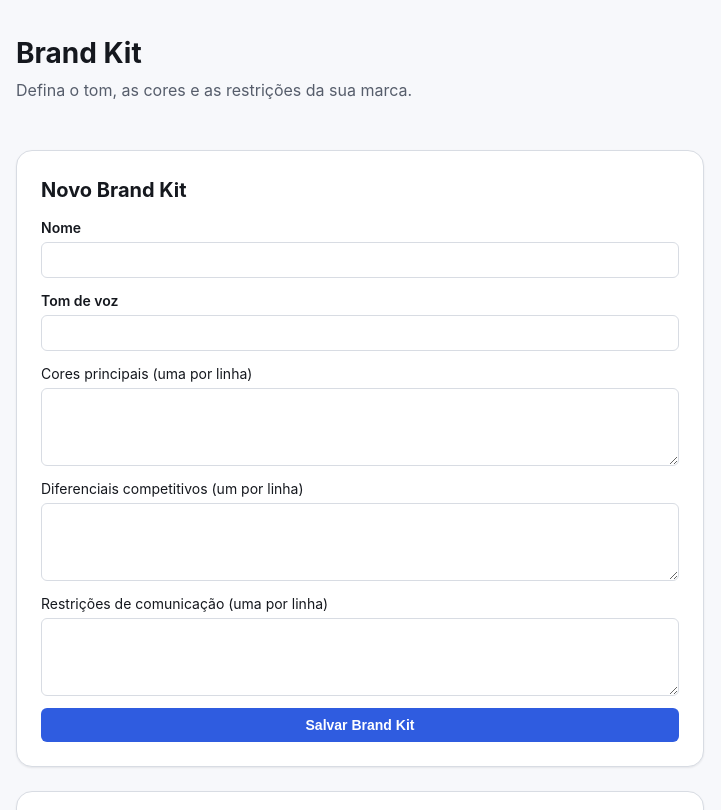
Scenario: BrandKitPage › envia POST /brand-profiles com os campos do formulario e recarrega a lista
Type "Nova Marca" into the field labelled "Nome" at x=360, y=260, box x1=41 y1=242 x2=679 y2=278
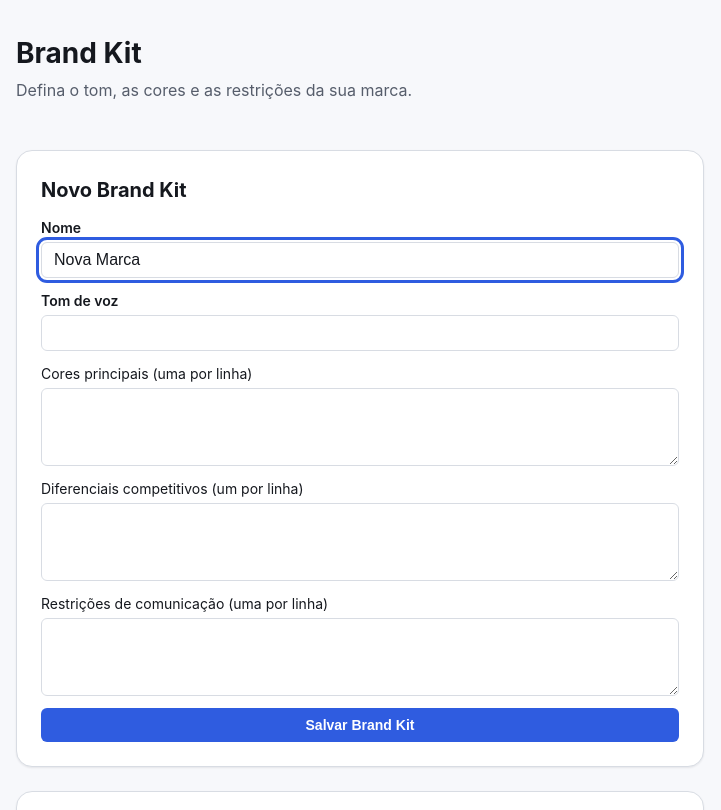
Type "formal" into the field labelled "Tom de voz" at x=360, y=333, box x1=41 y1=315 x2=679 y2=351
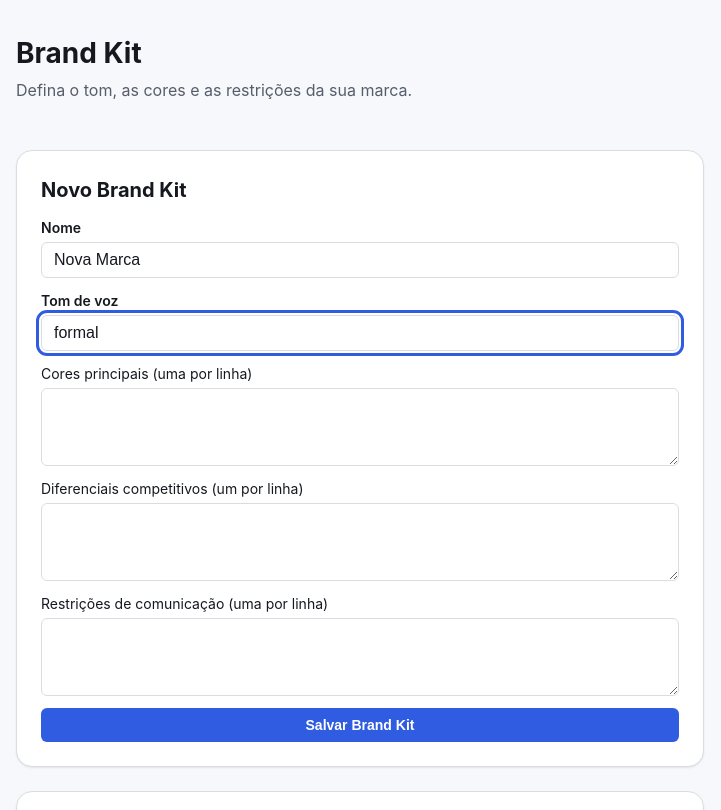
Click the button "Salvar Brand Kit" at x=360, y=725, box x1=41 y1=708 x2=679 y2=742
(page scrolled)
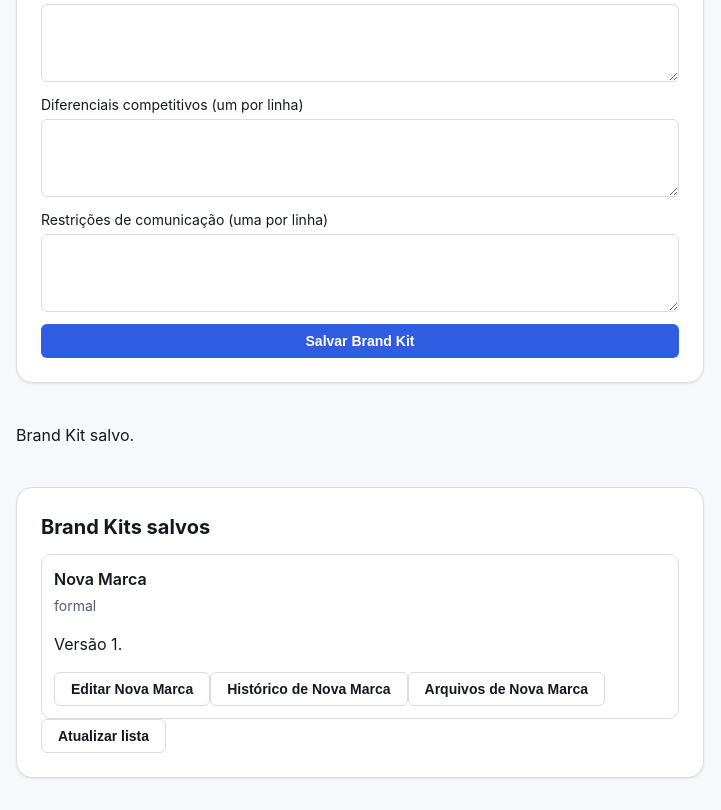
Check: the text "Nova Marca" is shown, box x1=54 y1=569 x2=147 y2=589
